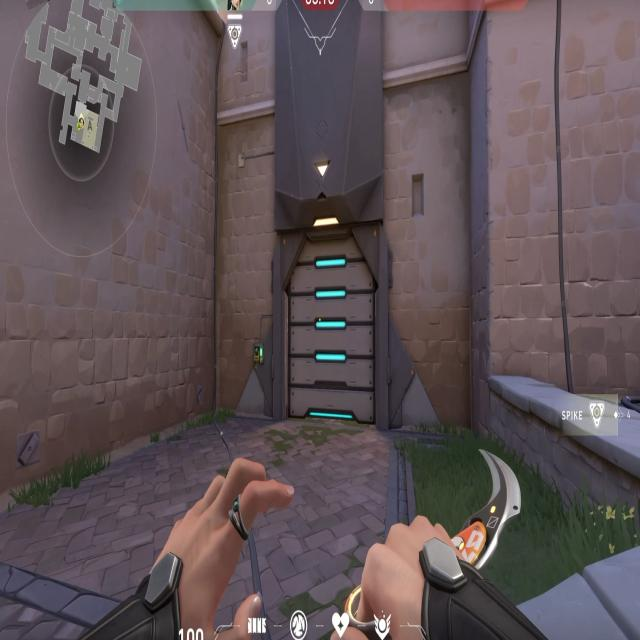A_Door: (272, 207, 392, 441)
